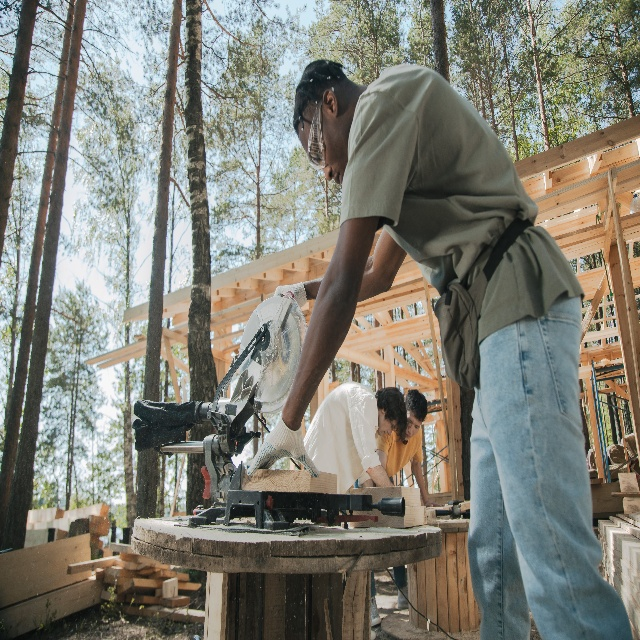Gafas: (306, 100, 326, 171)
Guantes: (246, 415, 320, 478), (274, 280, 308, 306)
